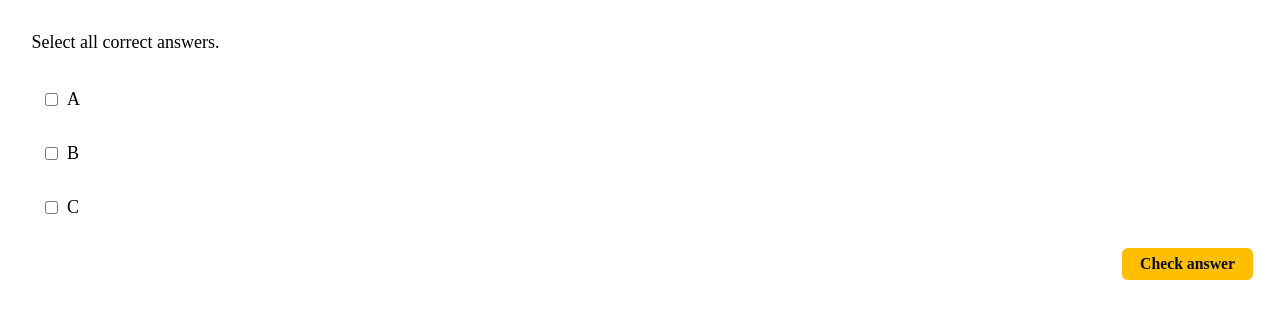
SelectAll › disables all checkboxes after a correct answer
Step 1. Click the checkbox labelled "A" → (52, 99), box [45, 92, 58, 106]
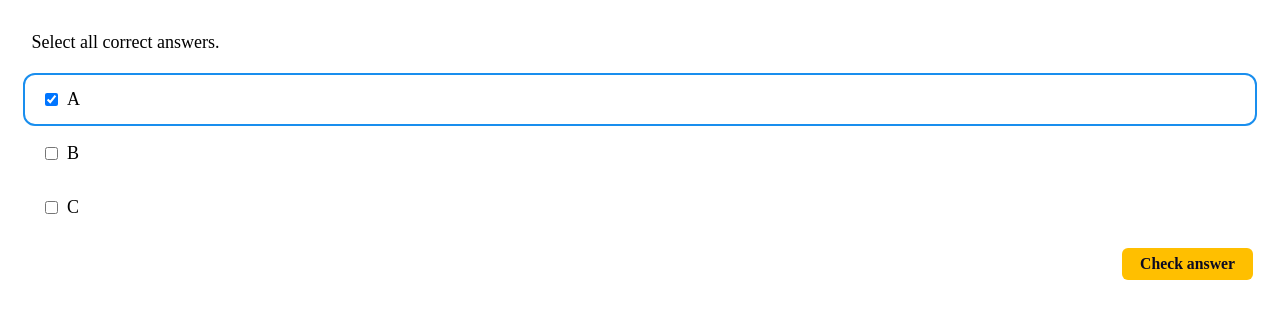
Step 2. Click the checkbox labelled "C" → (52, 207), box [45, 200, 58, 214]
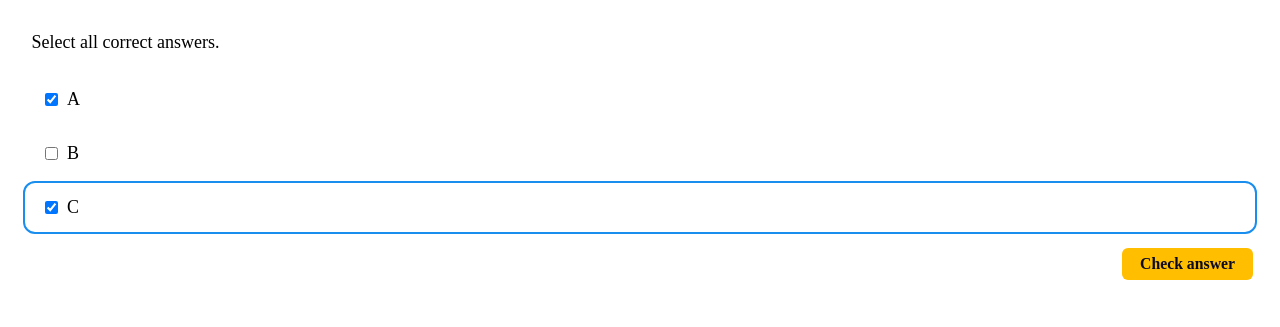
Step 3. Click the button "Check answer" → (1188, 264), box [1122, 248, 1253, 280]
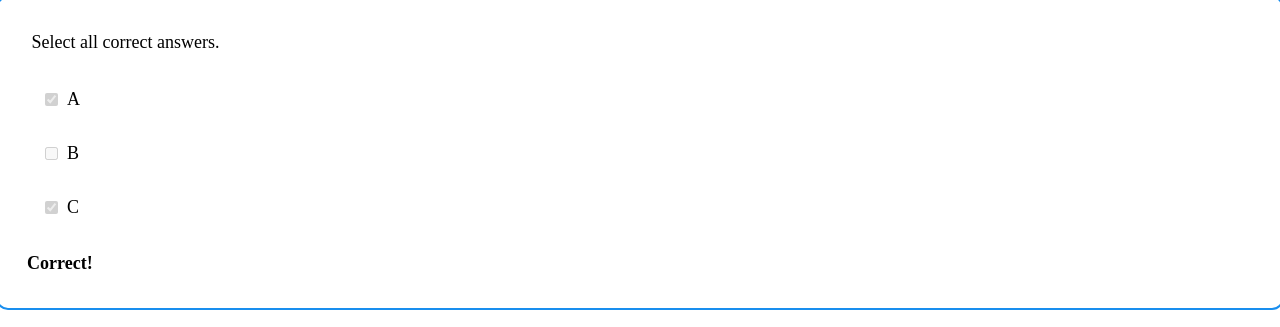
Result: the checkbox labelled "A" is disabled at [45, 92, 58, 106]
Result: the checkbox labelled "B" is disabled at [45, 146, 58, 160]
Result: the checkbox labelled "C" is disabled at [45, 200, 58, 214]
